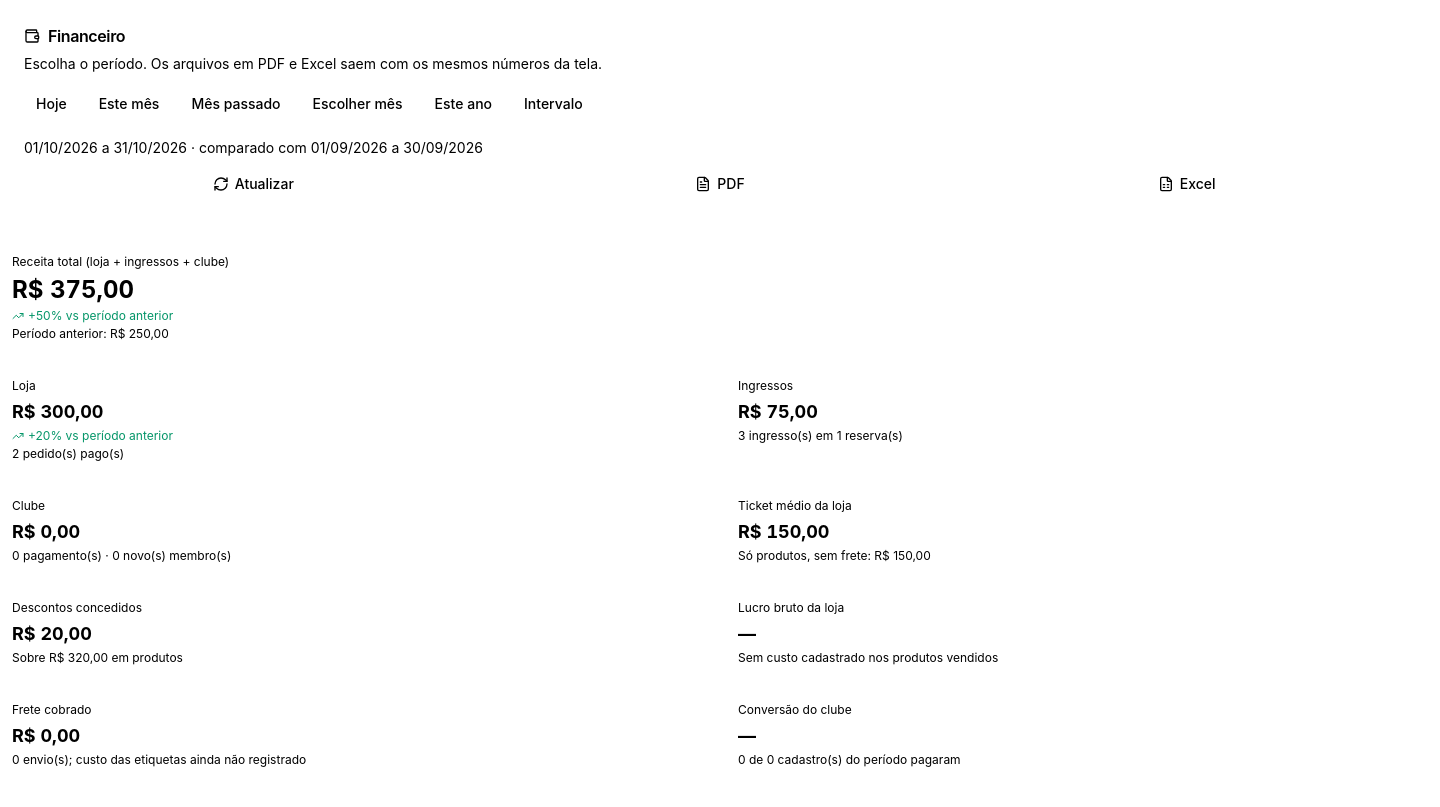
it: FinancePanel › sends a custom range, and never one that ends before it starts
Expected: the text "R$ 375,00" is shown, [12, 275, 134, 304]
Click the button "Intervalo" at (553, 104), box [512, 86, 595, 122]
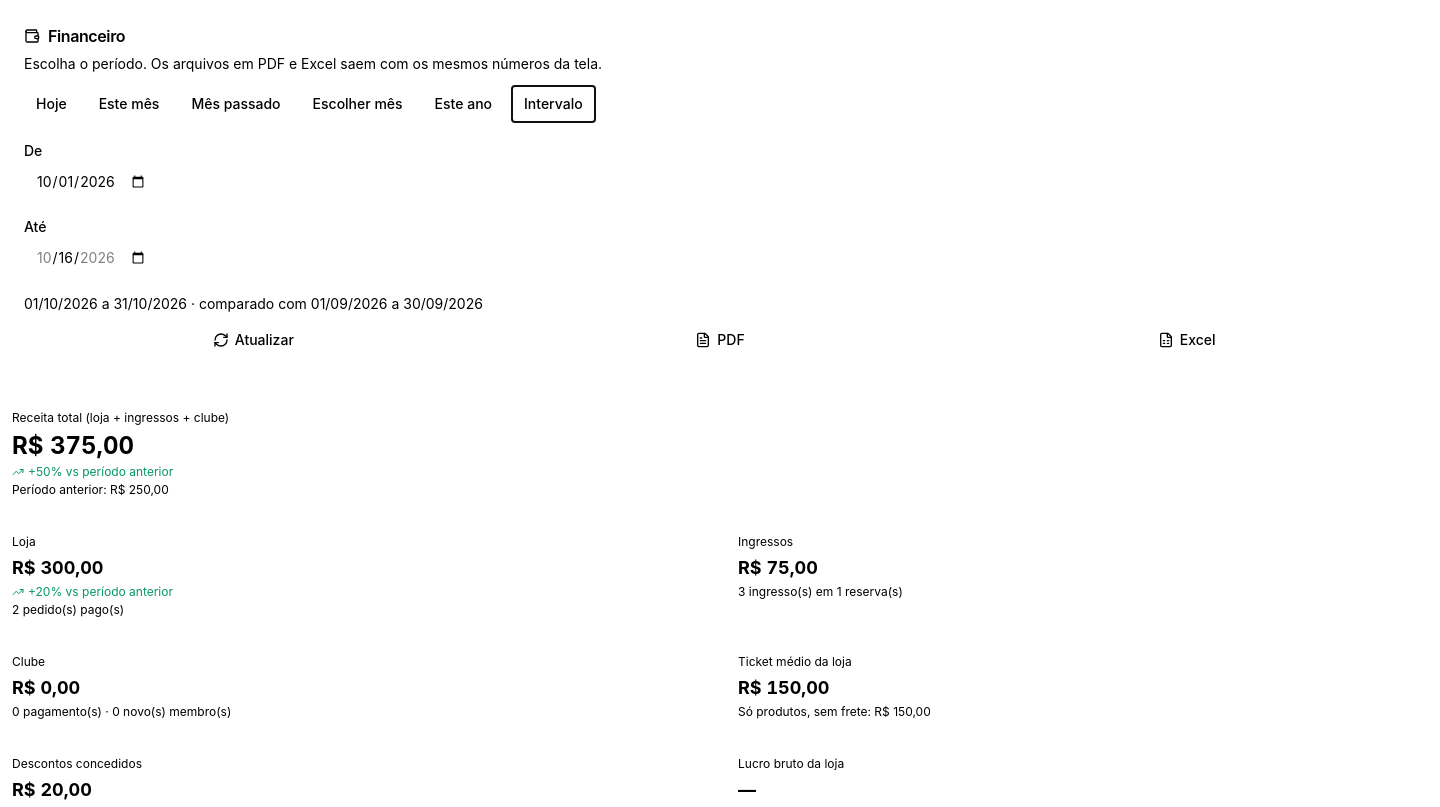
Type "2026-09-10" into the date field labelled "De" at (720, 182), box [24, 162, 1416, 202]
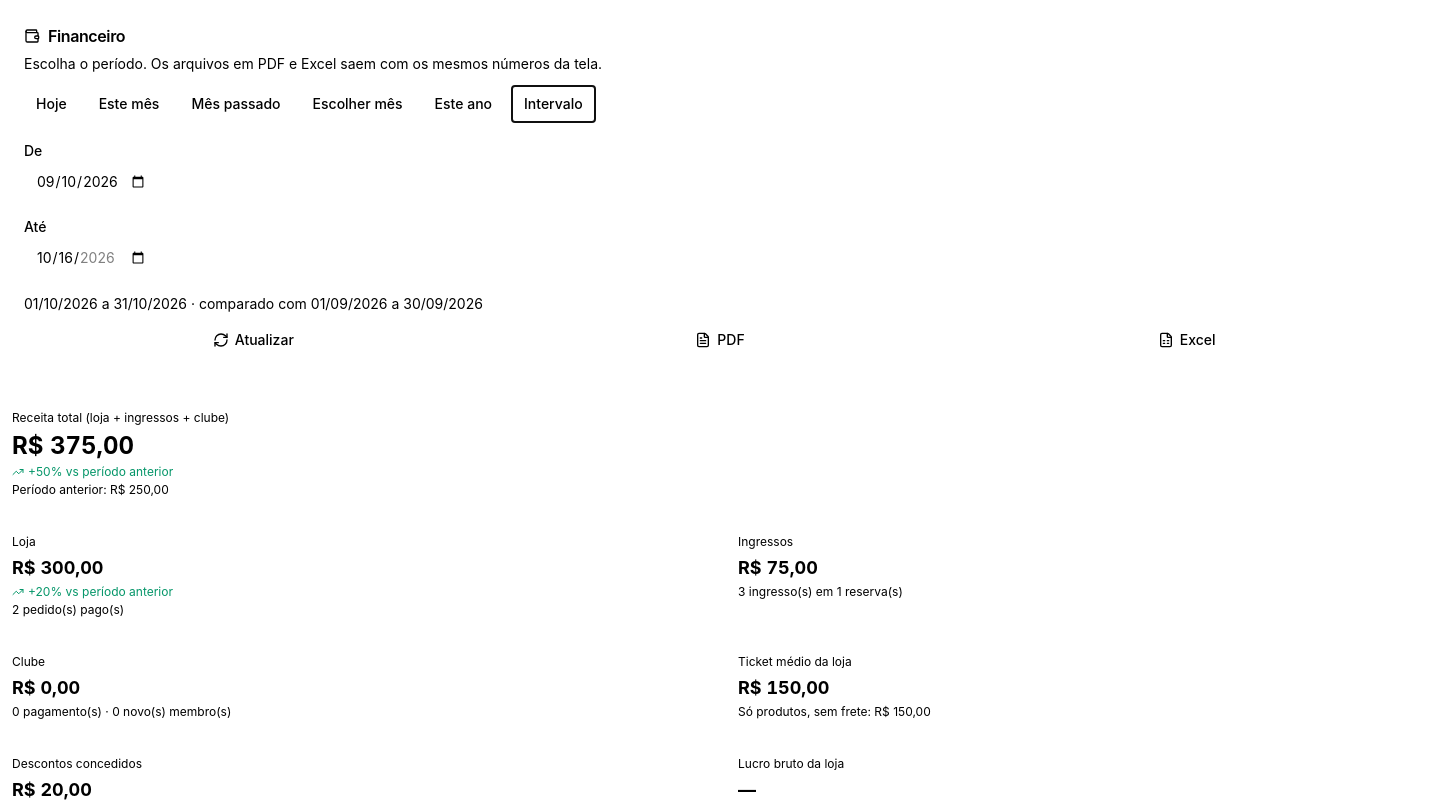
Type "2026-09-01" into the date field labelled "Até" at (720, 258), box [24, 238, 1416, 278]
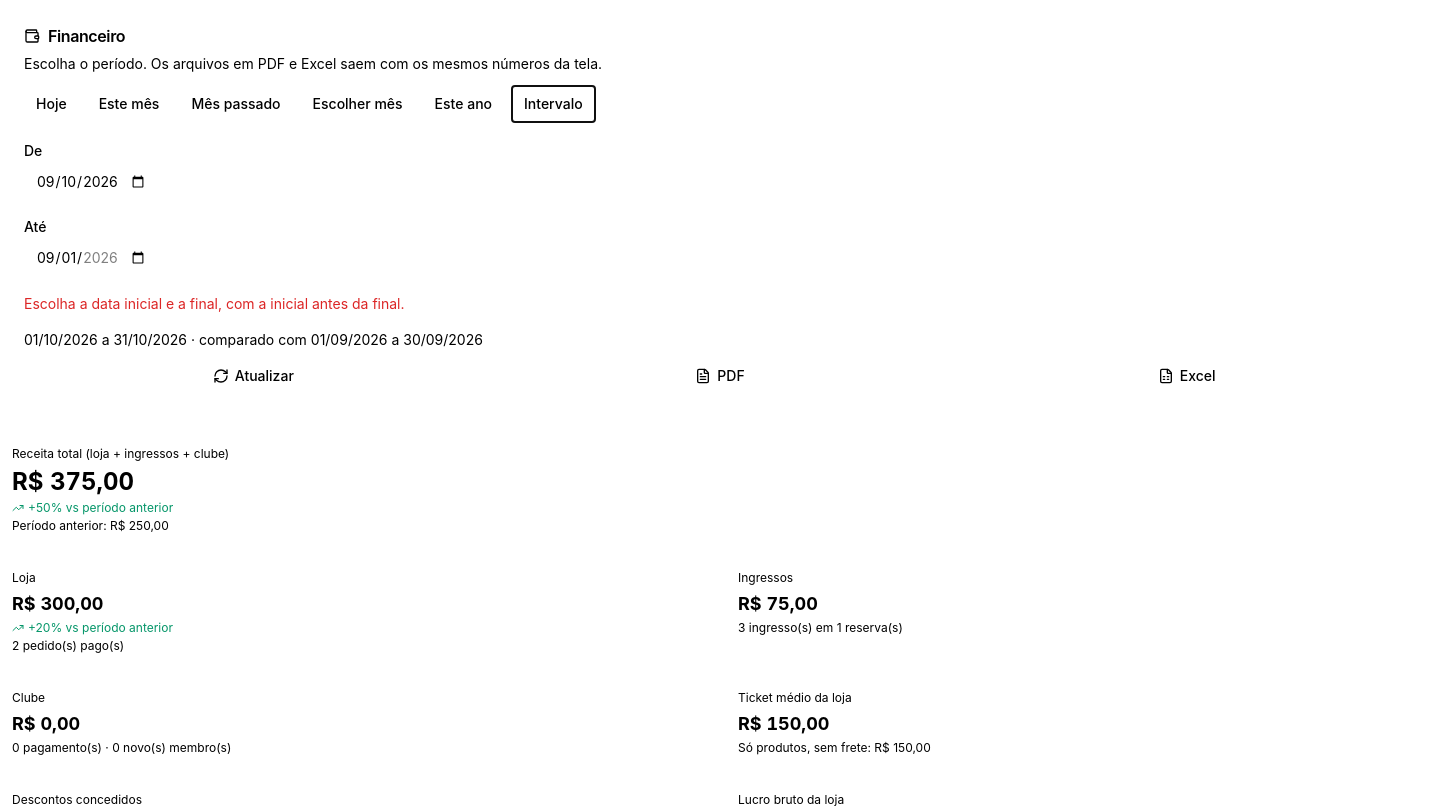
Expected: the text "Escolha a data inicial e a final, com a inicial antes da final." is shown, [24, 295, 404, 312]
